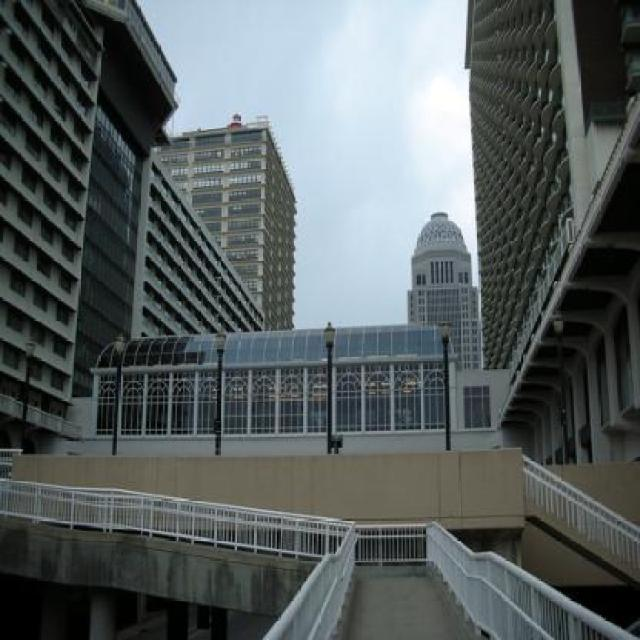stair: (274, 554, 520, 640)
